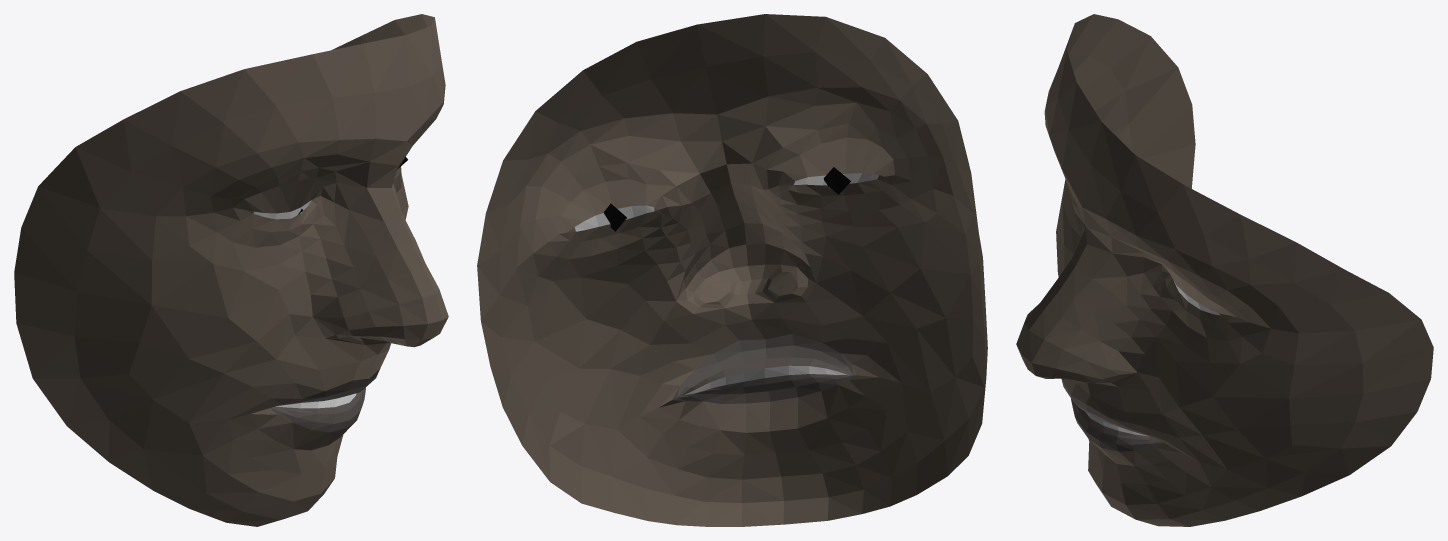
The model's file is frame_00183.obj.
The picture shows the model from 3 angles, left to right: view 1: azimuth 30°, elevation 25°; view 2: azimuth 150°, elevation 25°; view 3: azimuth 270°, elevation 25°; orthographic projection. The views are drawn at different scales.
Visible parts, largest first — view 1: face_model_with_iris; view 2: face_model_with_iris; view 3: face_model_with_iris.
Boxes of the visible parts, x1=… form: face_model_with_iris: x1=14, y1=14, x2=448, y2=526; face_model_with_iris: x1=477, y1=14, x2=987, y2=526; face_model_with_iris: x1=1016, y1=14, x2=1433, y2=526.
Size of the model in its own units: 0.4977 by 0.5368 by 0.4418.
